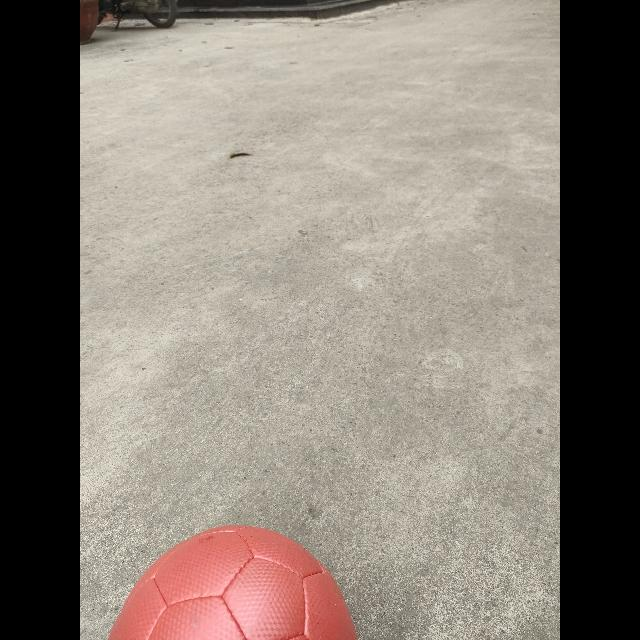R: (106, 525, 360, 639), (80, 0, 98, 42)
